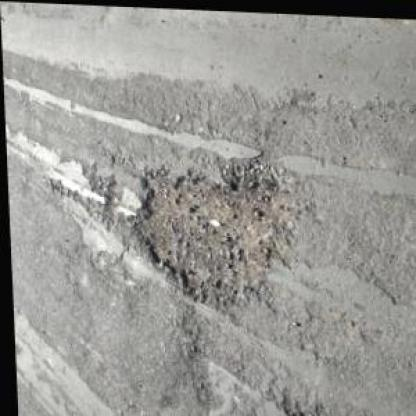pothole: (127, 148, 301, 308)
